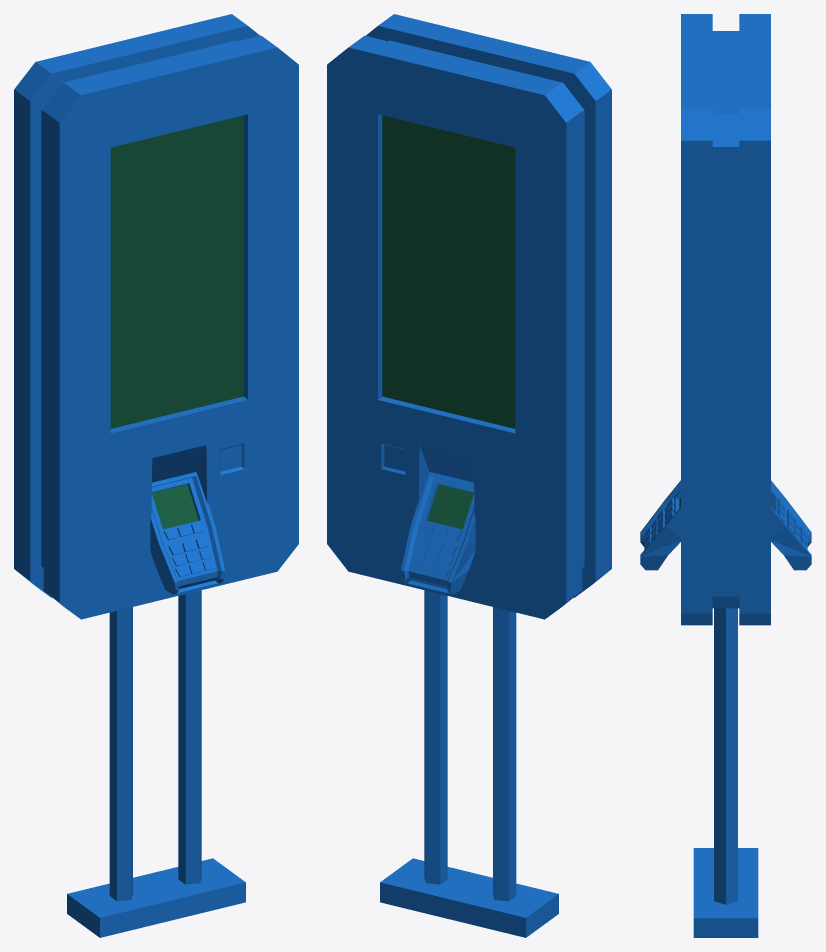
Rendered from T_self-service_kiosks.fbx.
3 renders of one model, left to right at view 1: azimuth 30°, elevation 25°; view 2: azimuth 150°, elevation 25°; view 3: azimuth 270°, elevation 25°, orthographic.
Visible parts, largest first — view 1: self_service_kiosks; view 2: self_service_kiosks; view 3: self_service_kiosks.
Boxes of the visible parts, x1,y1,x2,y2 form: self_service_kiosks: (14, 14, 298, 937); self_service_kiosks: (327, 14, 611, 937); self_service_kiosks: (640, 14, 811, 937).
Bounding box in the file's own units: 60.47 × 206 × 38.11.
